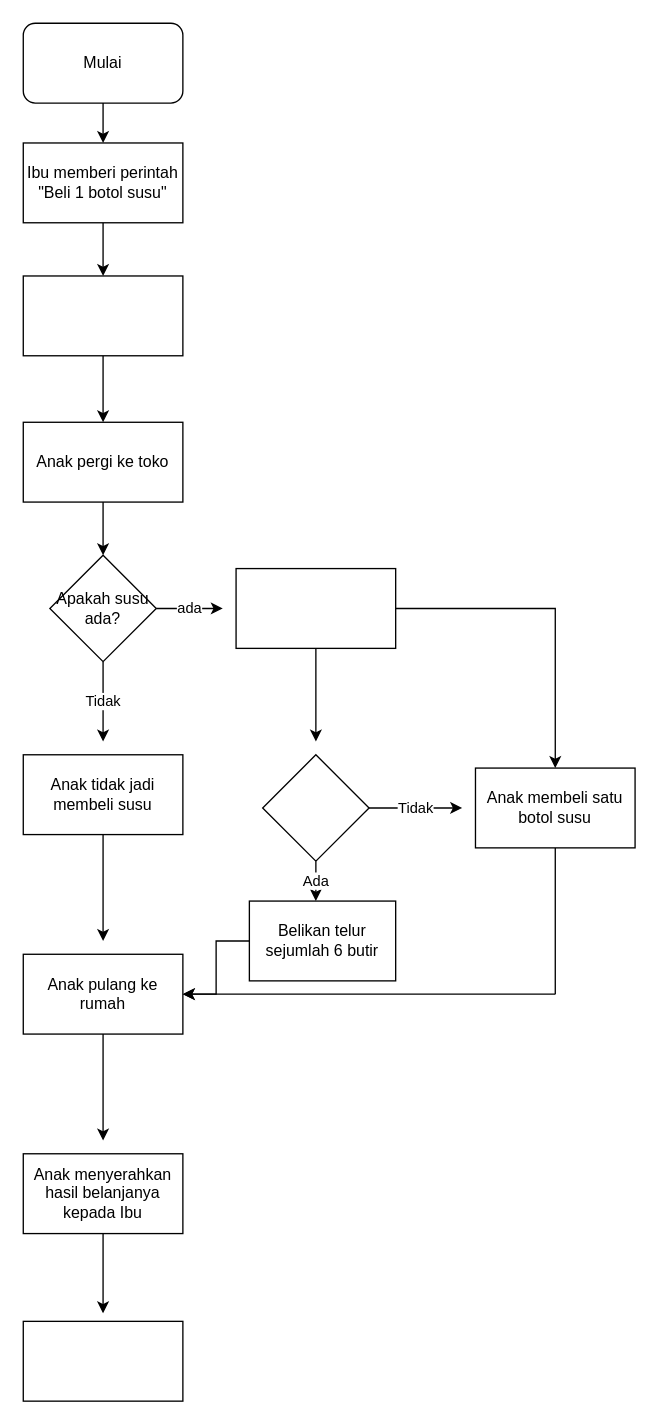
Some shapes in this 658 by 1424 pixel diagram are drawn without their labels. Each missing label, with the centre of its shape:
Anak mengecek harganya, cukup: [315,607]
Anak menjawab "OK": [102,315]
Apakah ada telur?: [315,807]
Selesai: [102,1360]
